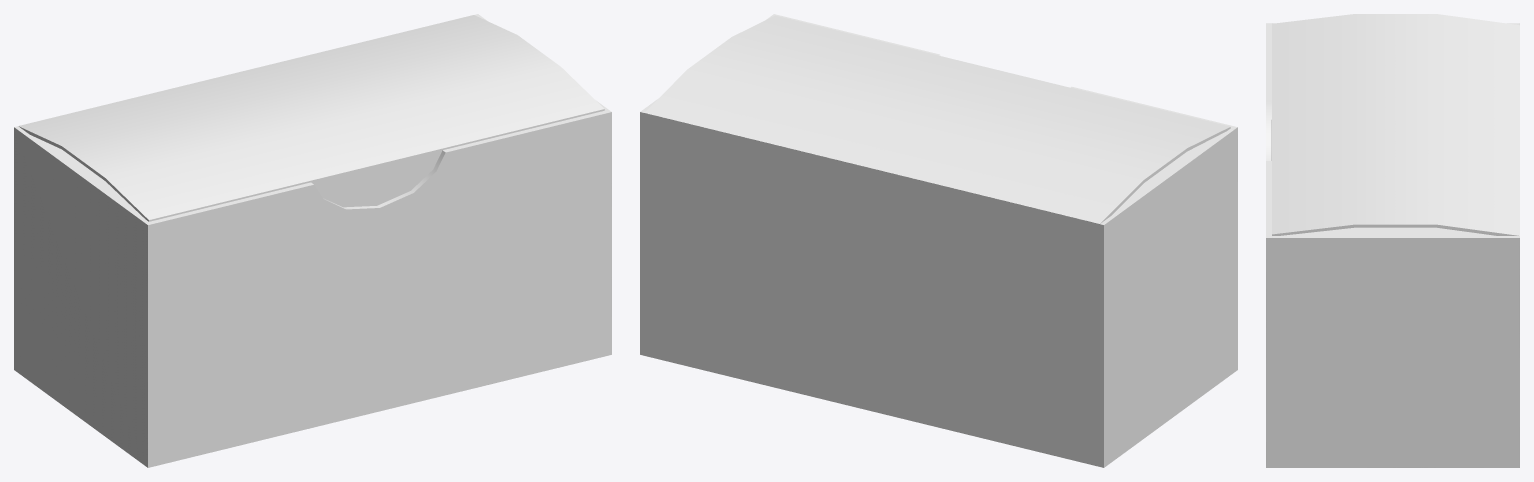
Rendered from 5.7x28 close.fbx.
3 views of the same model, side by side, from view 1: azimuth 30°, elevation 25°; view 2: azimuth 150°, elevation 25°; view 3: azimuth 270°, elevation 25° (orthographic). The views are drawn at different scales.
Visible parts, largest first — view 1: 5_7x28; view 2: 5_7x28; view 3: 5_7x28.
Part boxes in pixels (<box>): 5_7x28: <box>14,14,611,467</box>; 5_7x28: <box>640,14,1237,467</box>; 5_7x28: <box>1266,14,1519,467</box>.
Bounding box in the file's own units: 6 × 3.15 × 3.
Materials: 1 (1 with a texture image).
